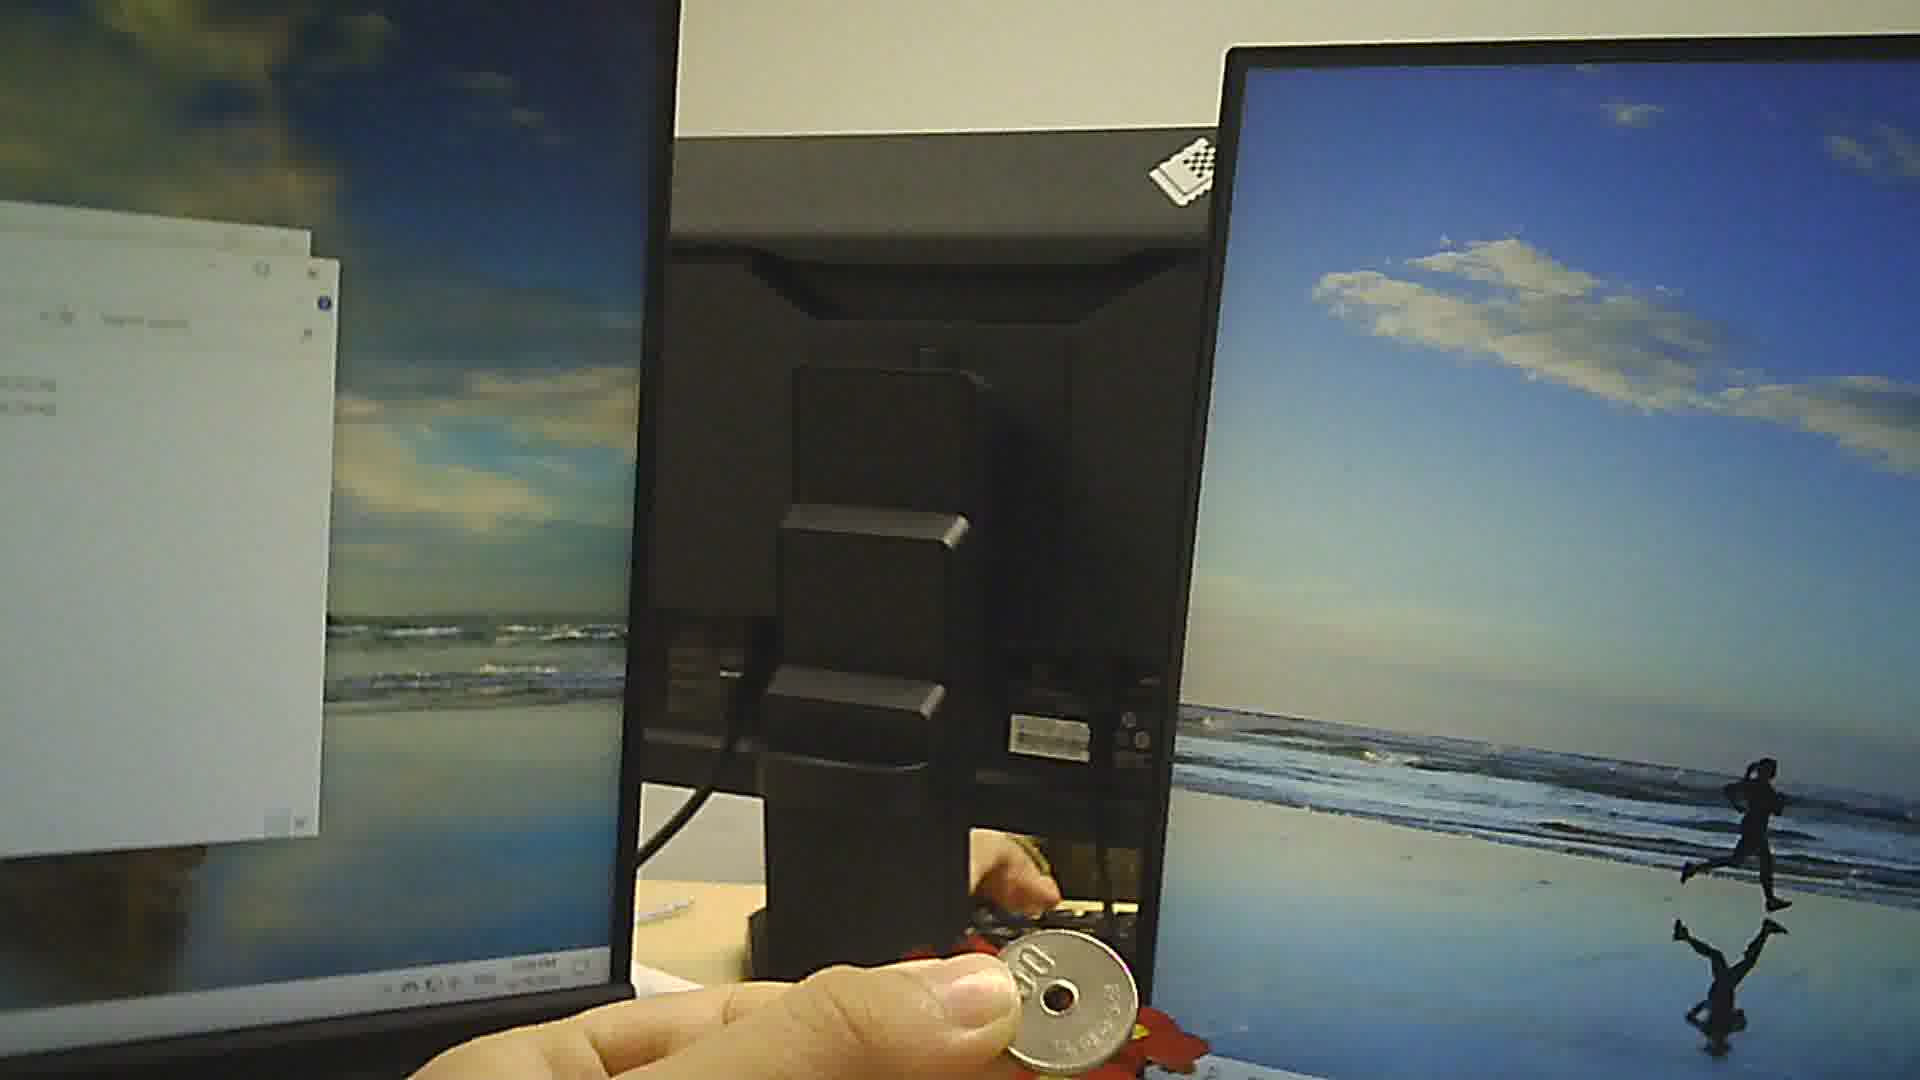50 Yen: (985, 930, 1143, 1063)
